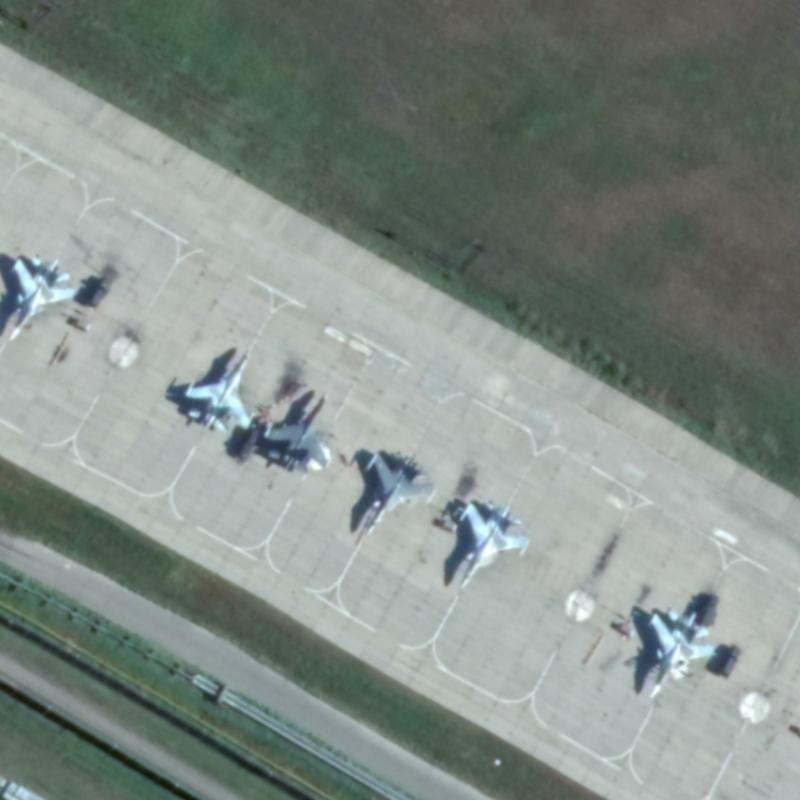A1: (352, 448, 438, 553), (454, 498, 532, 591), (180, 345, 258, 436), (261, 388, 335, 475)
A19: (645, 607, 718, 701), (6, 253, 78, 342)
